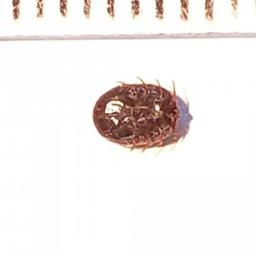Rhipicephalus sanguineus: (92, 76, 179, 152)
